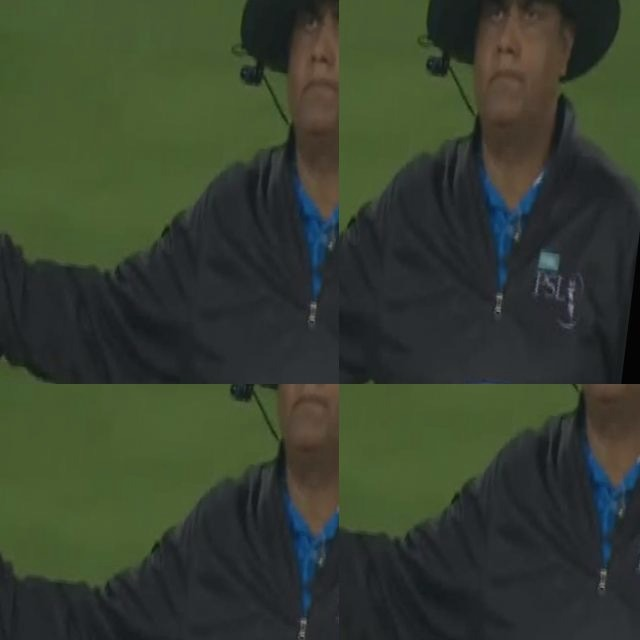No_Action: (339, 0, 495, 304)
No_Ball: (339, 384, 640, 640)
Out: (0, 384, 96, 640)
Six: (118, 0, 339, 384)
